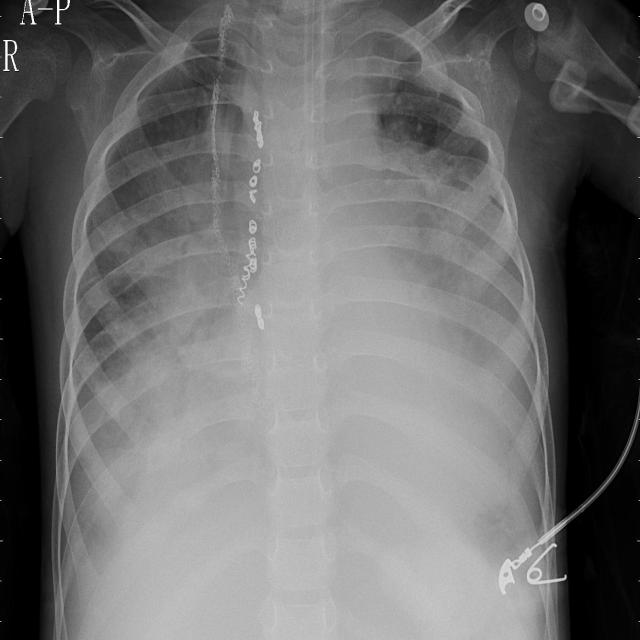high-pneumonia: (67, 126, 245, 582), (384, 145, 551, 516), (334, 3, 428, 124)
